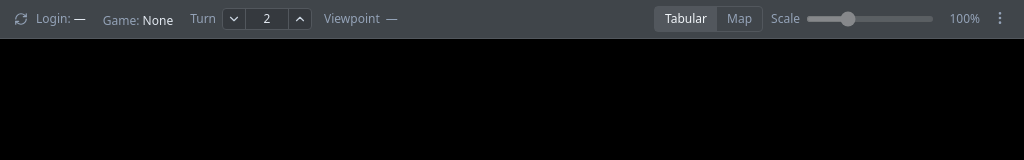
it: Header › turn stepper stops at 1 and can advance past latest turn
Expected: the number field named "turn number" holds "2", [245,9,289,29]
Click the button named "decrease turn": (234, 19) [223,9,245,29]
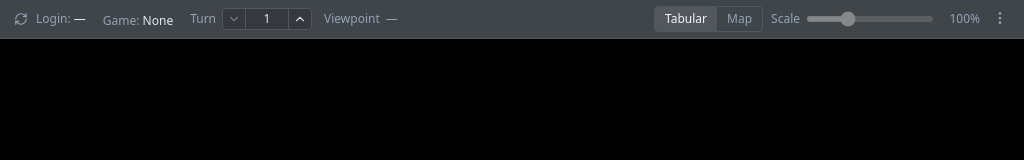
Expected: the number field named "turn number" holds "1", [245,9,289,29]
Expected: the button named "decrease turn" is disabled, [223,9,245,29]
Click the button named "increase turn": (300, 19) [289,9,311,29]
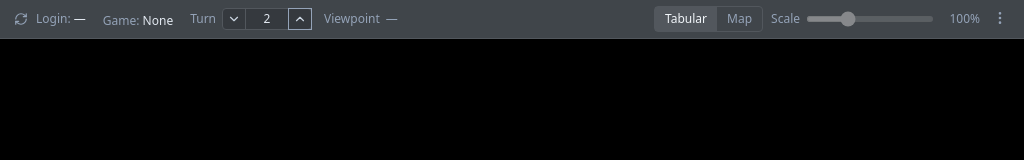
Expected: the number field named "turn number" holds "2", [245,9,289,29]
Click the button named "increase turn": (300, 19) [289,9,311,29]
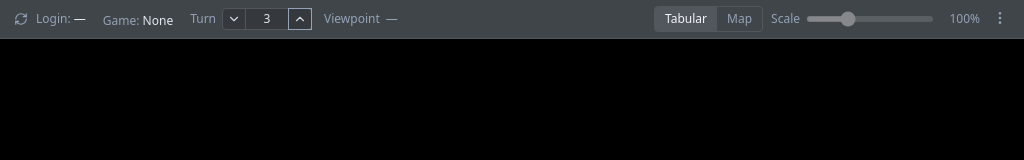
Expected: the number field named "turn number" holds "3", [245,9,289,29]
Click the button named "increase turn": (300, 19) [289,9,311,29]
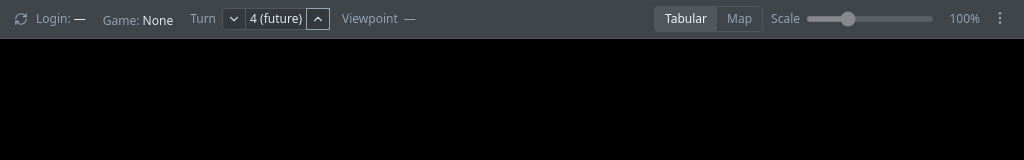
Expected: the button named "increase turn" is enabled, [307,9,329,29]
Expected: the text named "turn number 4 (future)" reads "4 (future)", [245,9,307,29]
